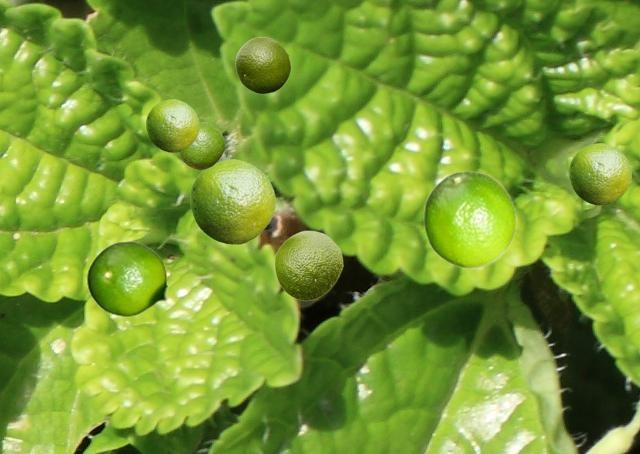calamansi: (423, 170, 516, 267), (190, 159, 274, 243), (86, 241, 176, 316), (274, 230, 342, 300), (569, 143, 630, 204), (235, 36, 290, 93), (146, 99, 198, 151), (178, 122, 224, 169)
